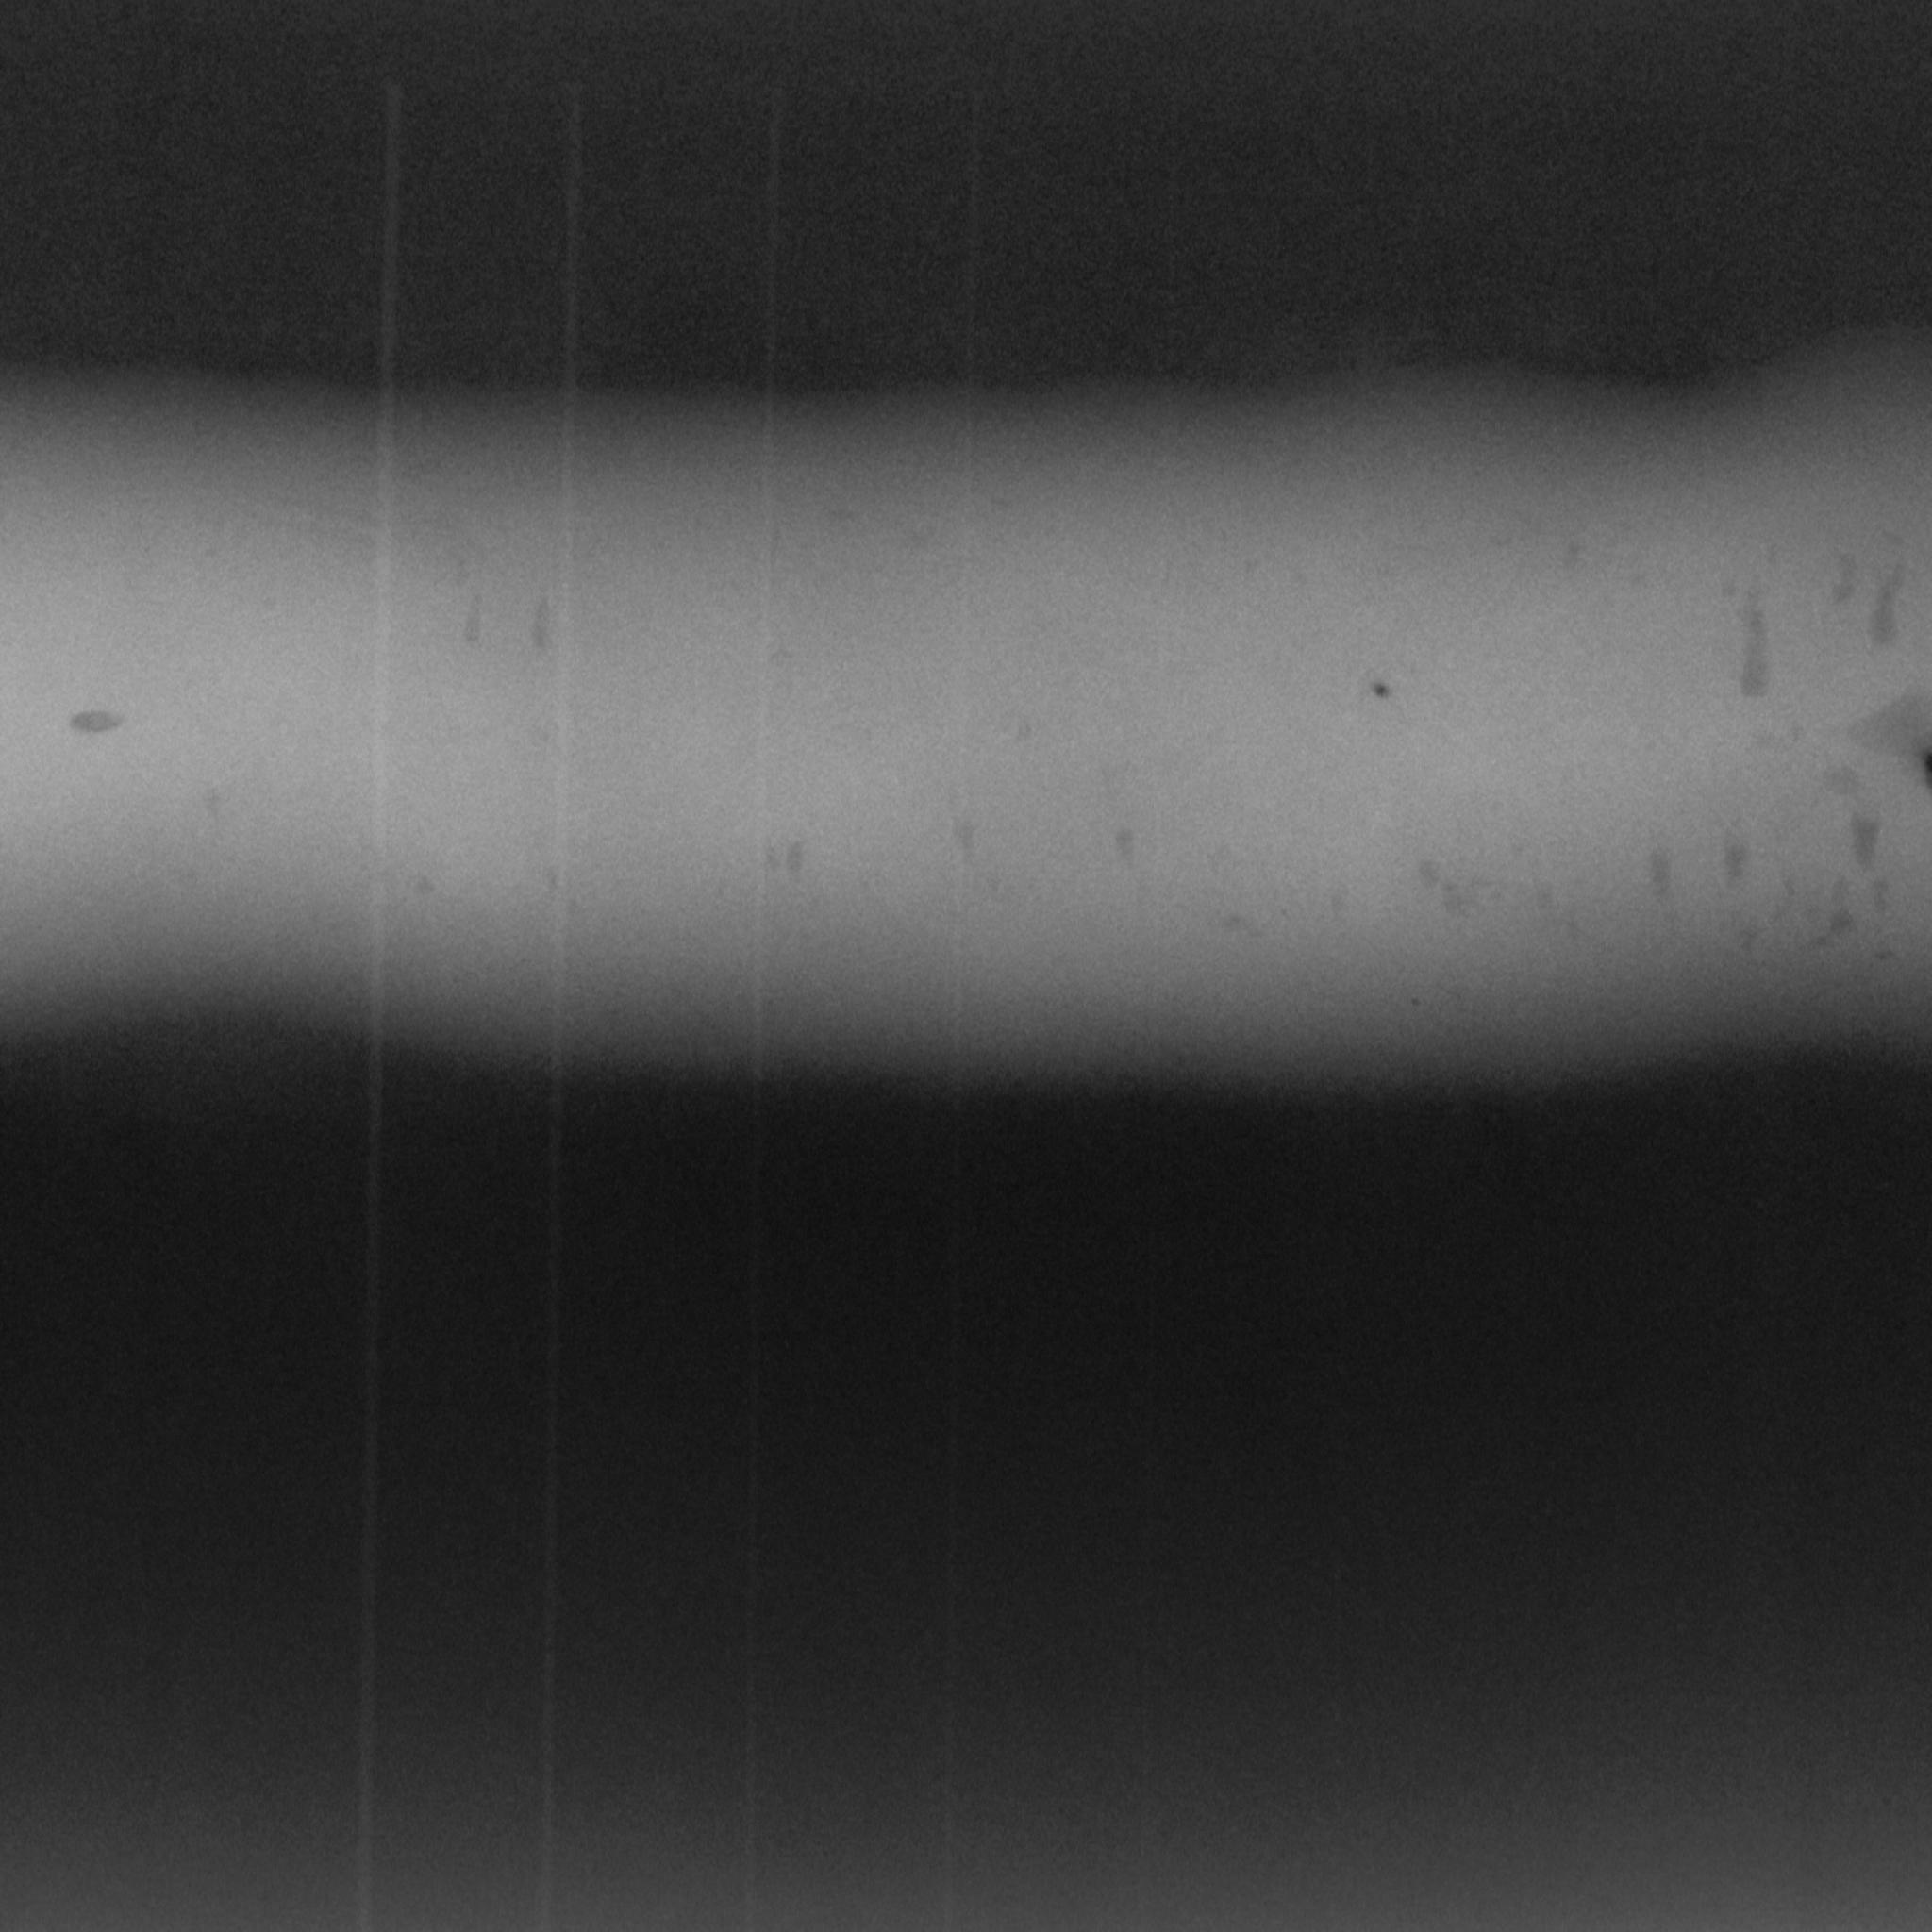Solda Ruim: (0, 297, 1932, 1150)
